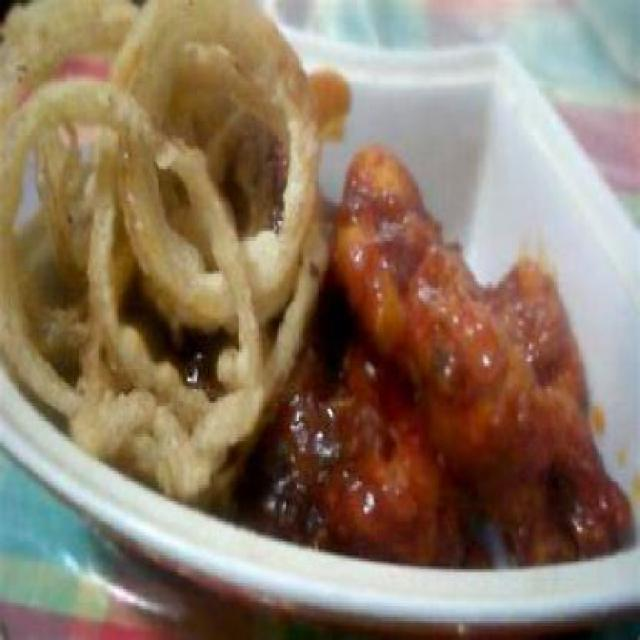chicken wings: (263, 144, 615, 561)
